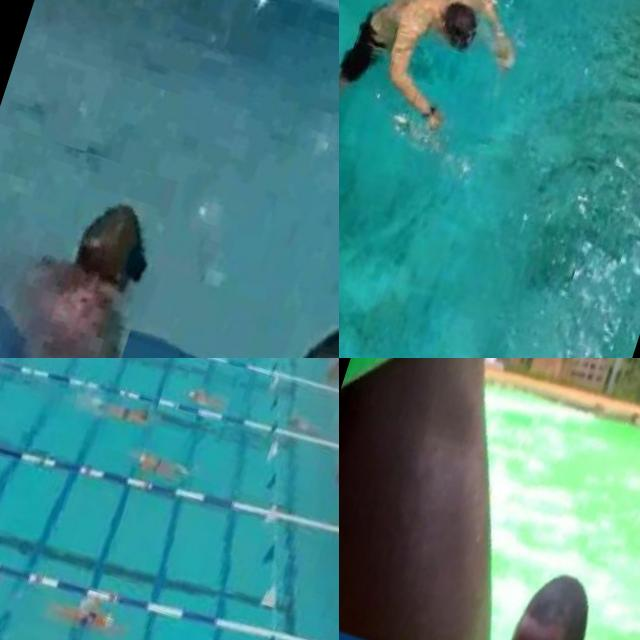drowning: (0, 122, 178, 358), (339, 0, 550, 186)
swimming: (434, 545, 640, 640), (28, 585, 130, 640), (134, 449, 192, 491), (99, 396, 153, 438), (179, 378, 230, 421), (281, 412, 321, 444), (321, 358, 339, 392), (326, 450, 339, 485)
